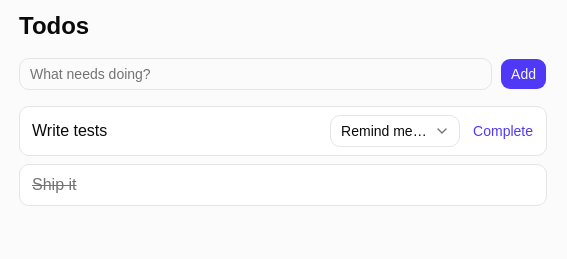
Test: TodoList › shows the API validation message when adding fails
Check: the text "Write tests" is shown, box top-left (32, 119), bottom-right (107, 143)
Type "x" into the field with placeholder "What needs doing?". click: point(256, 74)
box: top-left (19, 58), bottom-right (492, 90)
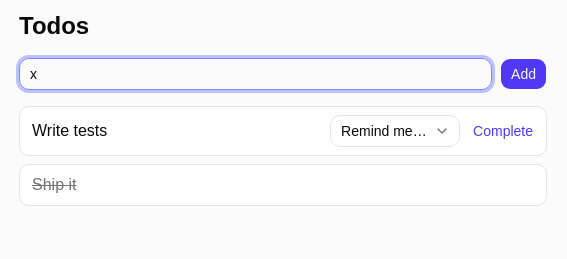
Click the button "Add". click: point(524, 74)
box: top-left (500, 58), bottom-right (547, 90)
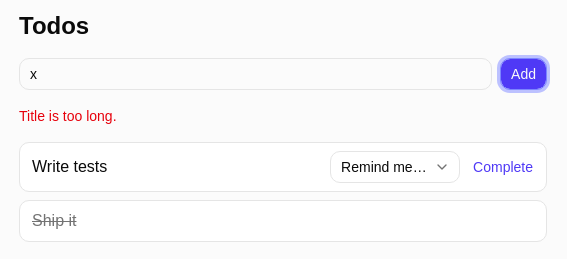
Check: the message reads "Title is too long.", box top-left (19, 108), bottom-right (116, 124)
